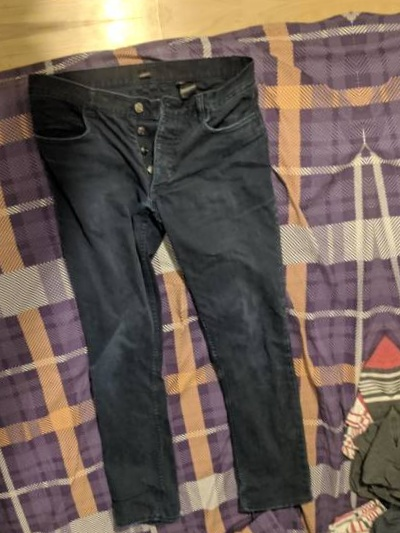Pants: (0, 36, 328, 533)
